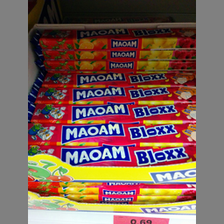candy: (28, 145, 197, 186), (31, 30, 195, 72), (28, 117, 196, 146), (28, 99, 197, 123), (29, 82, 196, 100)
